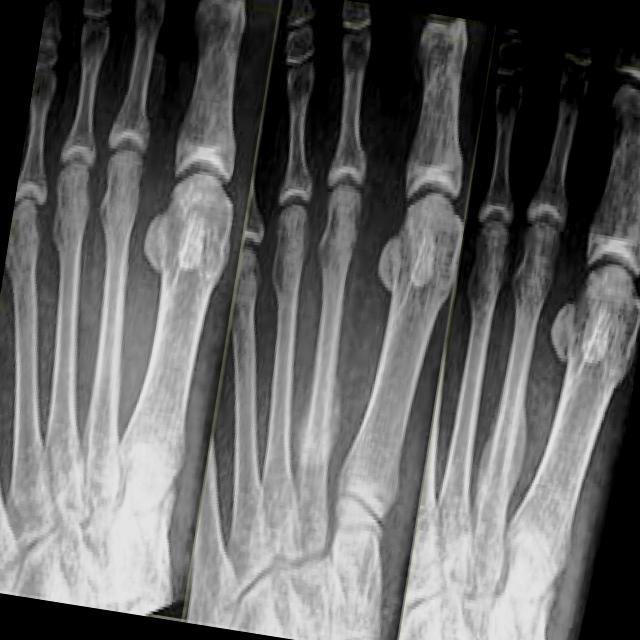HairLine Fracture: (489, 388, 531, 487), (296, 371, 338, 464)
